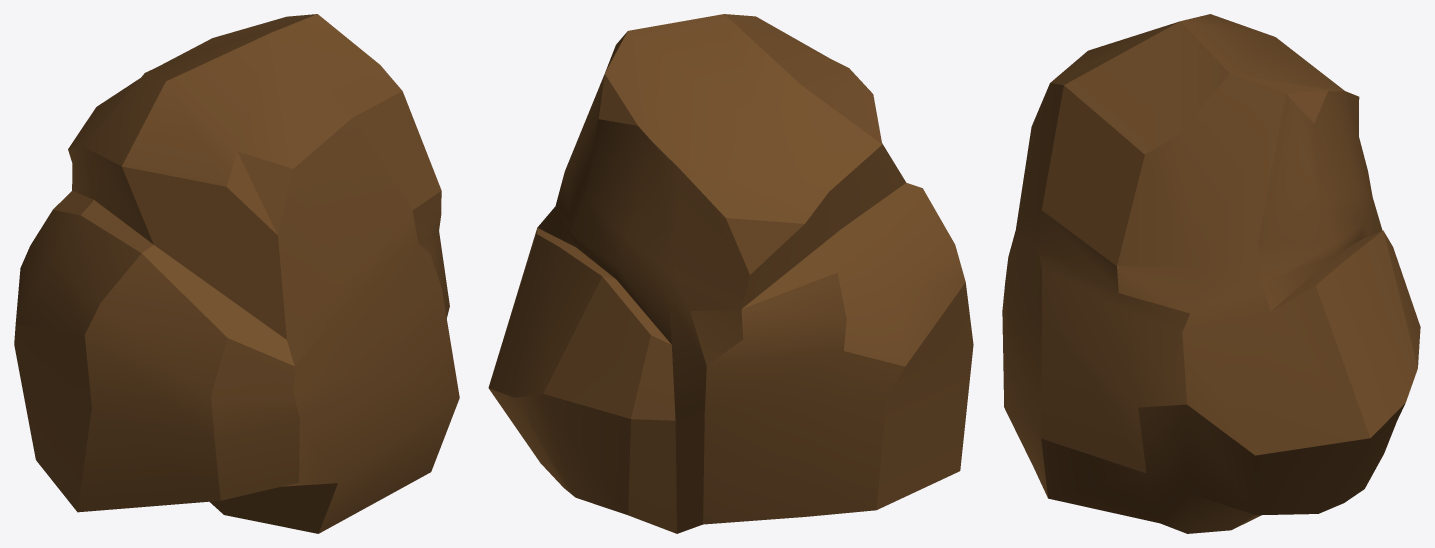
Rendered from quaternius-ultimate-space-pack-rock-1-transformed.glb.
3 views of the same model, side by side, from view 1: azimuth 30°, elevation 25°; view 2: azimuth 150°, elevation 25°; view 3: azimuth 270°, elevation 25° (orthographic). The views are drawn at different scales.
Parts seen in each view (by area): view 1: Rock_1; view 2: Rock_1; view 3: Rock_1.
Part boxes in pixels (box(x1,y1,x2,y2)): Rock_1: box(14, 14, 459, 533); Rock_1: box(488, 14, 973, 533); Rock_1: box(1002, 14, 1420, 533).
Bounding box in the file's own units: 3.1 × 3.61 × 2.83.
1 material, 1 textured.
